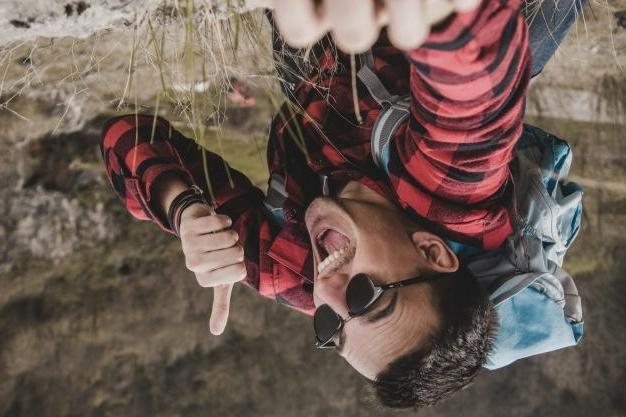thumbsdown: (181, 214, 248, 336)
